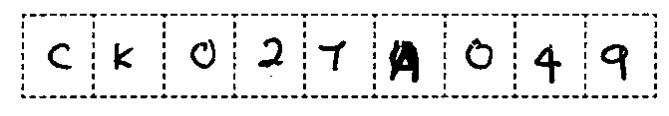0: (459, 32, 499, 74), (182, 33, 221, 76)
2: (254, 32, 290, 74)
4: (528, 40, 568, 90)
7: (316, 34, 350, 74)
9: (595, 39, 637, 84)
A: (382, 36, 430, 87)
C: (42, 36, 78, 74)
K: (107, 40, 140, 77)
